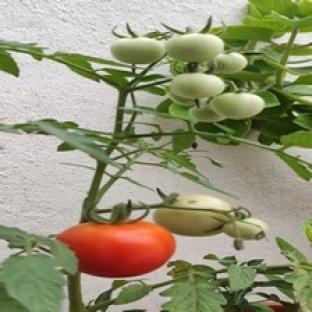Tomato: (58, 221, 175, 277), (154, 195, 232, 236), (166, 34, 224, 62), (211, 92, 264, 119), (111, 38, 165, 64), (170, 73, 225, 98), (223, 218, 268, 239), (215, 52, 247, 73), (189, 106, 224, 122), (169, 92, 194, 107)
